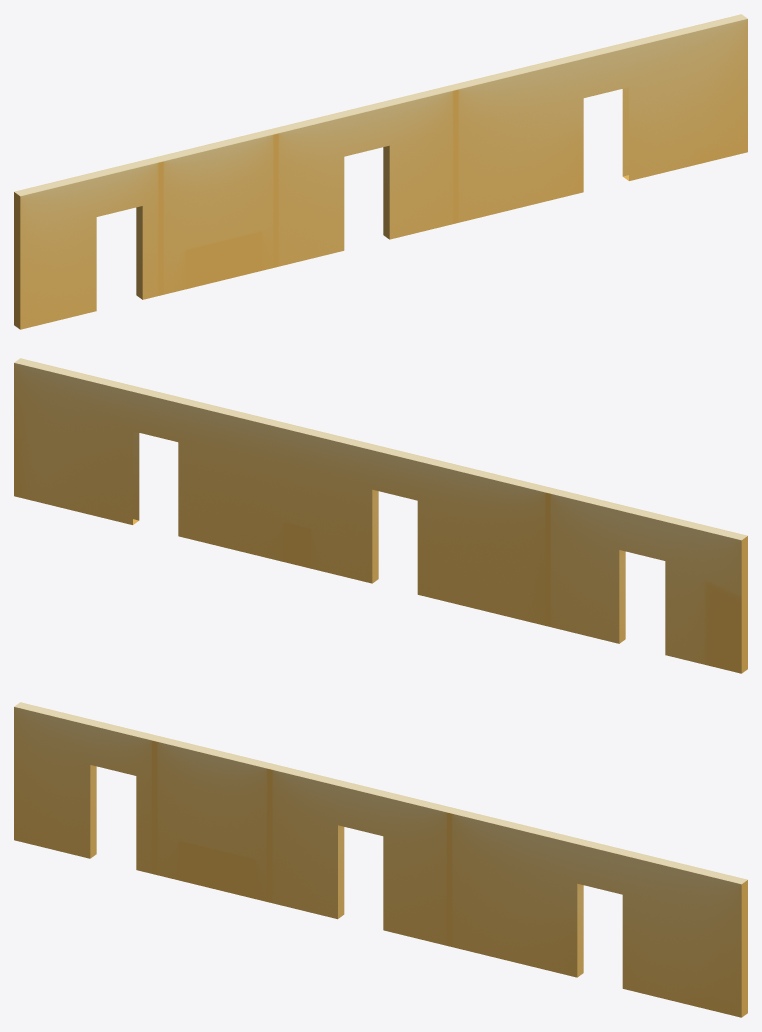
File: wallinside_long.fbx
3 renders of one model, top to bottom at view 1: azimuth 30°, elevation 25°; view 2: azimuth 150°, elevation 25°; view 3: azimuth 330°, elevation 25°, orthographic.
Visible parts, largest first — view 1: pCube47; view 2: pCube47; view 3: pCube47.
Boxes of the visible parts, box(x1,y1,x2,y2) form: pCube47: box(14, 14, 747, 329); pCube47: box(14, 358, 747, 673); pCube47: box(14, 702, 747, 1017).
Size of the model in its own units: 22.32 by 3.91 by 0.3354.
